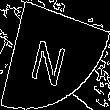N_N: (33, 24, 77, 86)
